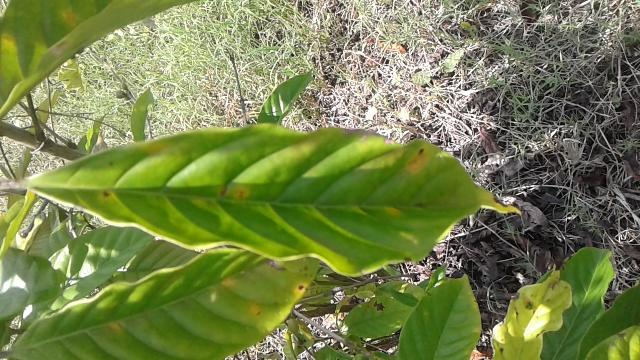rust_level_2: (26, 119, 530, 277)
